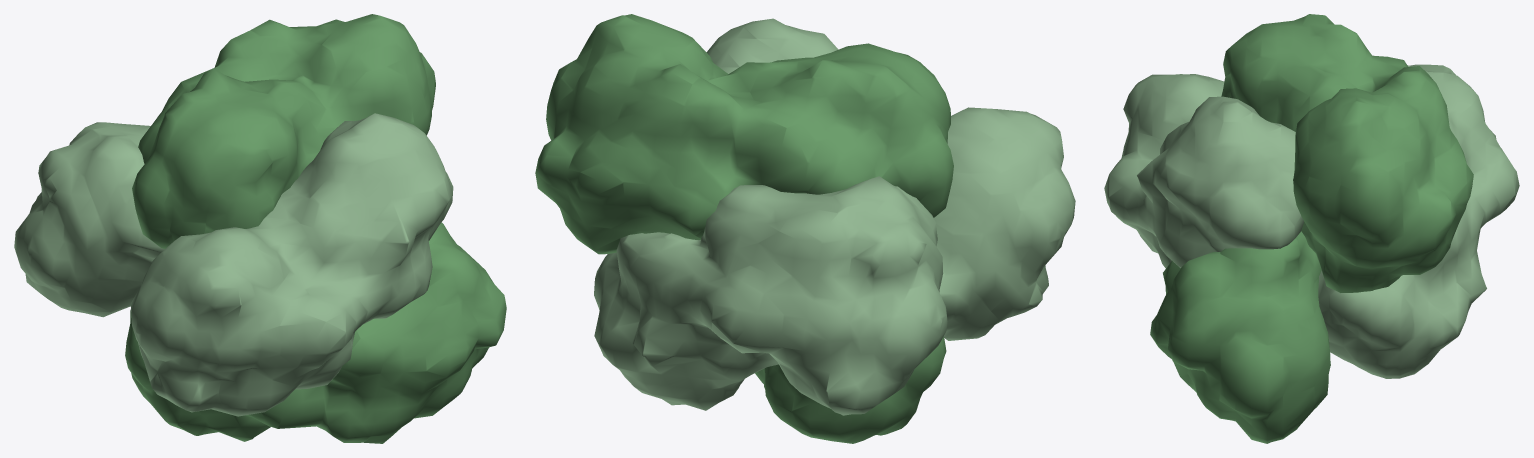
File: tetramer1PFK.fbx
3 renders of one model, left to right at view 1: azimuth 30°, elevation 25°; view 2: azimuth 150°, elevation 25°; view 3: azimuth 270°, elevation 25°, orthographic. The views are drawn at different scales.
Visible parts, largest first — view 1: CoarseMS_1PFKsimp1_Selection1, CoarseMS_1PFKsimp1_Selection0.2, CoarseMS_1PFKsimp1_Selection0, CoarseMS_1PFKsimp1_Selection1.2; view 2: CoarseMS_1PFKsimp1_Selection0.2, CoarseMS_1PFKsimp1_Selection1.2, CoarseMS_1PFKsimp1_Selection1, CoarseMS_1PFKsimp1_Selection0; view 3: CoarseMS_1PFKsimp1_Selection0.2, CoarseMS_1PFKsimp1_Selection1, CoarseMS_1PFKsimp1_Selection0, CoarseMS_1PFKsimp1_Selection1.2.
Part boxes in pixels (<box>): CoarseMS_1PFKsimp1_Selection1: <box>130,113,453,416</box>; CoarseMS_1PFKsimp1_Selection0.2: <box>132,14,435,248</box>; CoarseMS_1PFKsimp1_Selection0: <box>125,222,506,443</box>; CoarseMS_1PFKsimp1_Selection1.2: <box>14,122,164,317</box>; CoarseMS_1PFKsimp1_Selection0.2: <box>535,14,953,254</box>; CoarseMS_1PFKsimp1_Selection1.2: <box>594,176,947,415</box>; CoarseMS_1PFKsimp1_Selection1: <box>706,18,1075,340</box>; CoarseMS_1PFKsimp1_Selection0: <box>755,336,946,443</box>; CoarseMS_1PFKsimp1_Selection0.2: <box>1221,14,1473,292</box>; CoarseMS_1PFKsimp1_Selection1: <box>1104,74,1304,268</box>; CoarseMS_1PFKsimp1_Selection0: <box>1150,231,1330,443</box>; CoarseMS_1PFKsimp1_Selection1.2: <box>1318,64,1519,378</box>.
Bounding box in the file's own units: 88.76 × 80.73 × 88.67.
